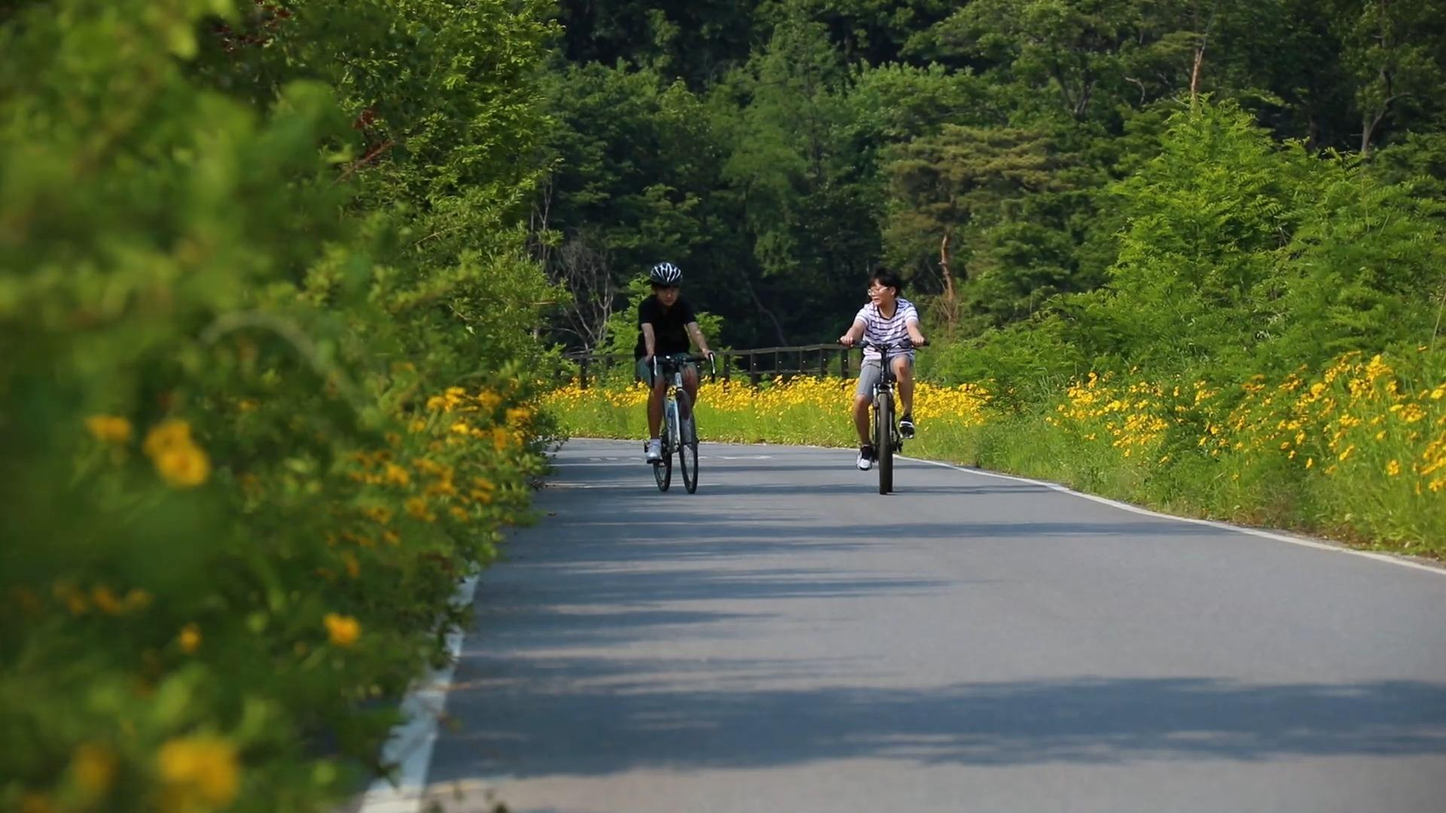bicyclist: (835, 267, 932, 494), (633, 260, 718, 496)
helmet: (648, 261, 683, 309)
no-helmet: (867, 268, 902, 307)
